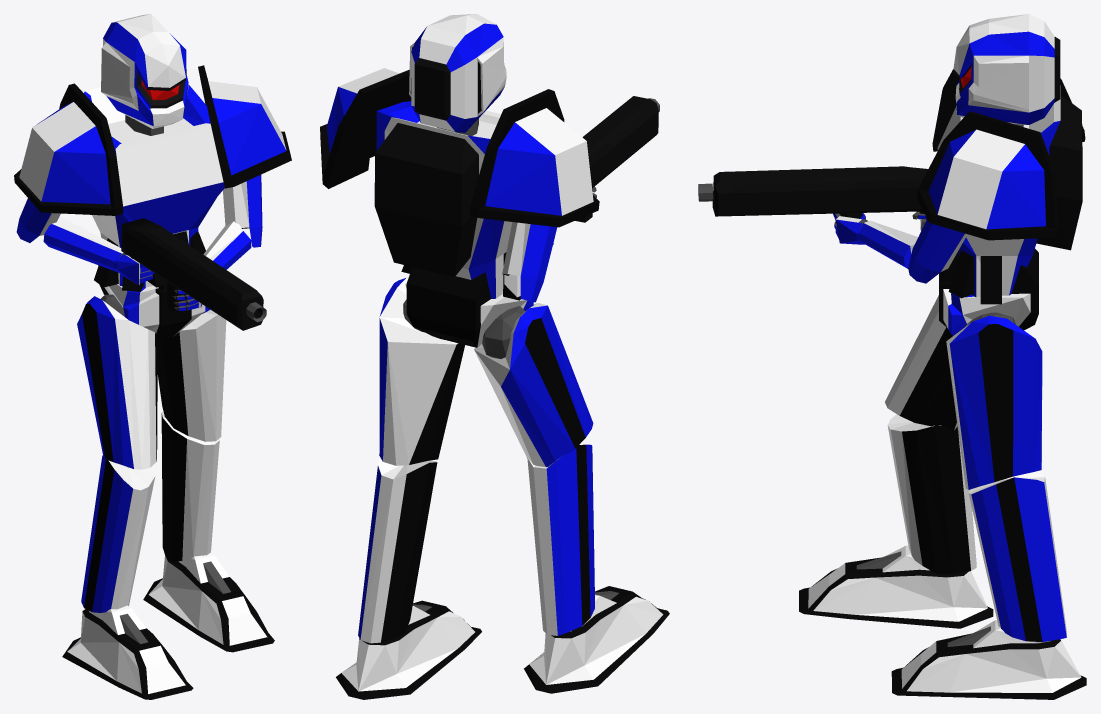
The model's file is robot_animation_000021.obj.
3 renders of one model, left to right at view 1: azimuth 30°, elevation 25°; view 2: azimuth 150°, elevation 25°; view 3: azimuth 270°, elevation 25°, orthographic. The views are drawn at different scales.
Visible parts, largest first — view 1: Chest_plate_Cube.004, R_Thigh_Cube.005, Cube.002_Cube.059, Head_base_Cube.022, R_Shin_Cube.007, R_Foot.002_Cube.035, R_Thigh.002_Cube.027, Cube_Cube.001, R_Foot_Cube, R_Shin.002_Cube.029, Cube_Cube.021, Pelvis_Cube.006 (+5 smaller); view 2: Chest_plate_Cube.004, Cube.002_Cube.059, R_Thigh.002_Cube.027, R_Thigh_Cube.005, R_Shin_Cube.007, R_Shin.002_Cube.029, Head_base_Cube.022, R_Foot_Cube, R_Foot.002_Cube.035, Cube_Cube.021, Pelvis_Cube.006, Cube_Cube.001 (+2 smaller); view 3: Cube_Cube.021, R_Thigh.002_Cube.027, R_Shin.002_Cube.029, R_Foot.002_Cube.035, R_Foot_Cube, R_Shin_Cube.007, Head_base_Cube.022, Cube_Cube.001, Chest_plate_Cube.004, R_Thigh_Cube.005, Pelvis_Cube.006, L_Arm_Cube.014 (+3 smaller).
Part boxes in pixels (x1,y1,x2,y2): Chest_plate_Cube.004: [84, 85, 224, 291]; R_Thigh_Cube.005: [77, 296, 157, 469]; Cube.002_Cube.059: [14, 83, 123, 215]; Head_base_Cube.022: [101, 14, 188, 128]; R_Shin_Cube.007: [81, 455, 156, 612]; R_Foot.002_Cube.035: [143, 552, 274, 652]; R_Thigh.002_Cube.027: [157, 309, 226, 441]; Cube_Cube.001: [121, 218, 266, 330]; R_Foot_Cube: [62, 605, 193, 699]; R_Shin.002_Cube.029: [161, 412, 219, 561]; Cube_Cube.021: [198, 65, 291, 188]; Pelvis_Cube.006: [98, 265, 210, 340]; Chest_plate_Cube.004: [374, 101, 520, 300]; Cube.002_Cube.059: [469, 89, 599, 227]; R_Thigh.002_Cube.027: [379, 277, 464, 465]; R_Thigh_Cube.005: [474, 303, 593, 467]; R_Shin_Cube.007: [527, 444, 594, 635]; R_Shin.002_Cube.029: [358, 456, 437, 643]; Head_base_Cube.022: [409, 14, 506, 132]; R_Foot_Cube: [524, 586, 669, 693]; R_Foot.002_Cube.035: [336, 600, 481, 699]; Cube_Cube.021: [320, 68, 411, 188]; Pelvis_Cube.006: [405, 267, 533, 347]; Cube_Cube.001: [575, 96, 659, 222]; Cube_Cube.021: [916, 111, 1059, 240]; R_Thigh.002_Cube.027: [946, 315, 1042, 489]; R_Shin.002_Cube.029: [968, 470, 1066, 641]; R_Foot.002_Cube.035: [891, 620, 1086, 699]; R_Foot_Cube: [799, 545, 993, 628]; R_Shin_Cube.007: [887, 414, 976, 574]; Head_base_Cube.022: [953, 14, 1060, 124]; Cube_Cube.001: [698, 166, 928, 219]; Chest_plate_Cube.004: [937, 85, 1082, 304]; R_Thigh_Cube.005: [885, 295, 957, 430]; Pelvis_Cube.006: [939, 249, 1038, 335]; L_Arm_Cube.014: [908, 219, 967, 283].
Bounding box in the file's own units: 1.32 × 3.03 × 1.69.
